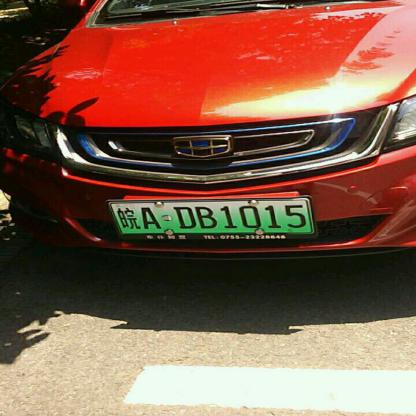lp: (108, 198, 310, 234)
